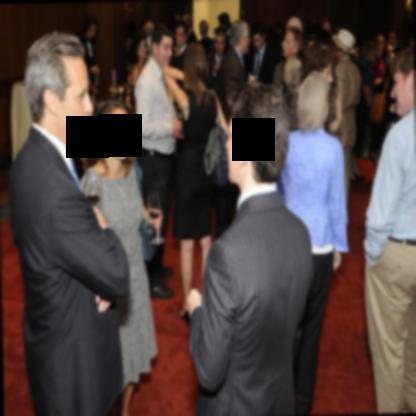handbag: (202, 121, 225, 175), (367, 75, 389, 123), (139, 215, 158, 260)
